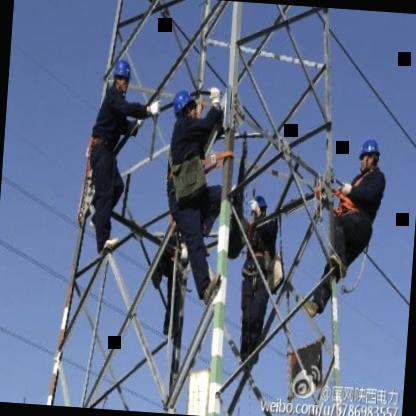helmet: (355, 134, 384, 177), (172, 88, 202, 128), (111, 57, 134, 95), (248, 194, 268, 228)
